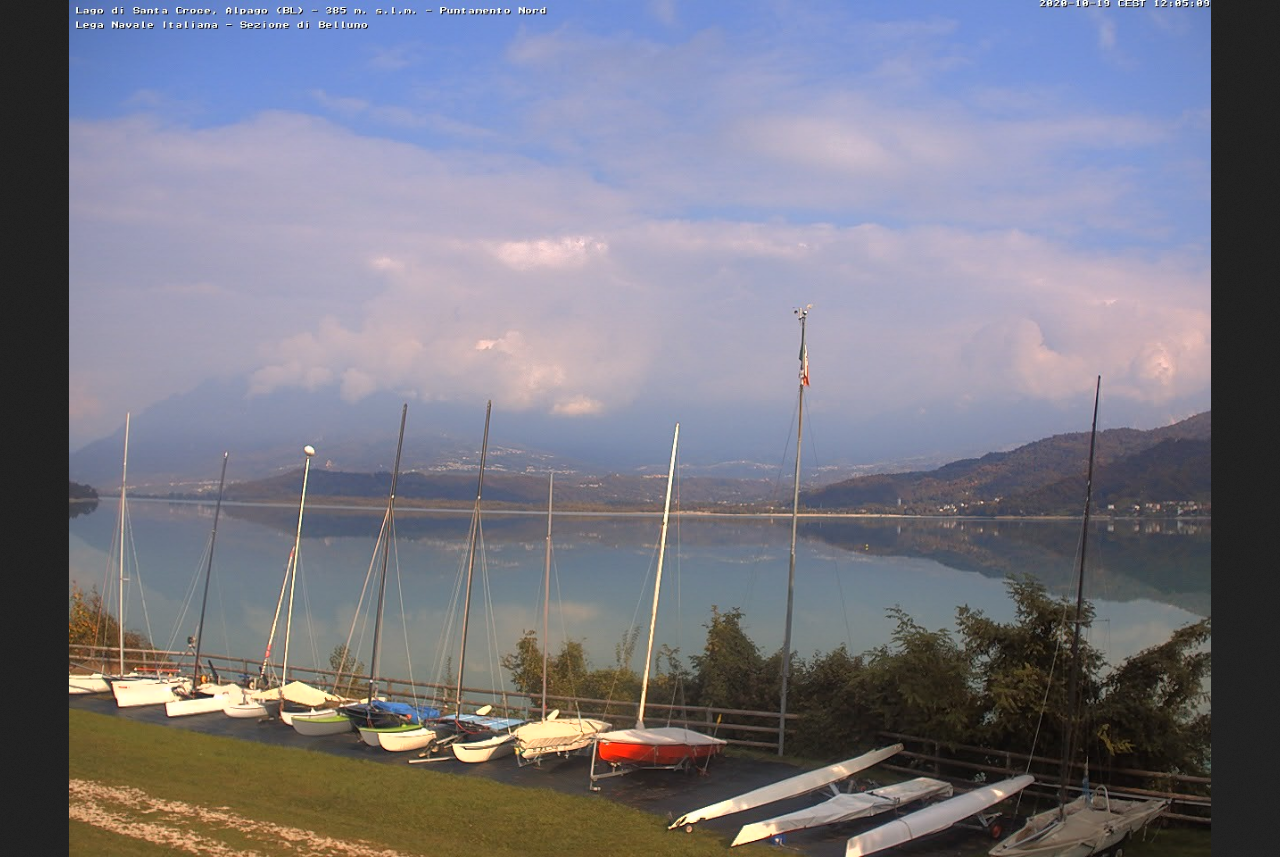no: (797, 317, 812, 390)
